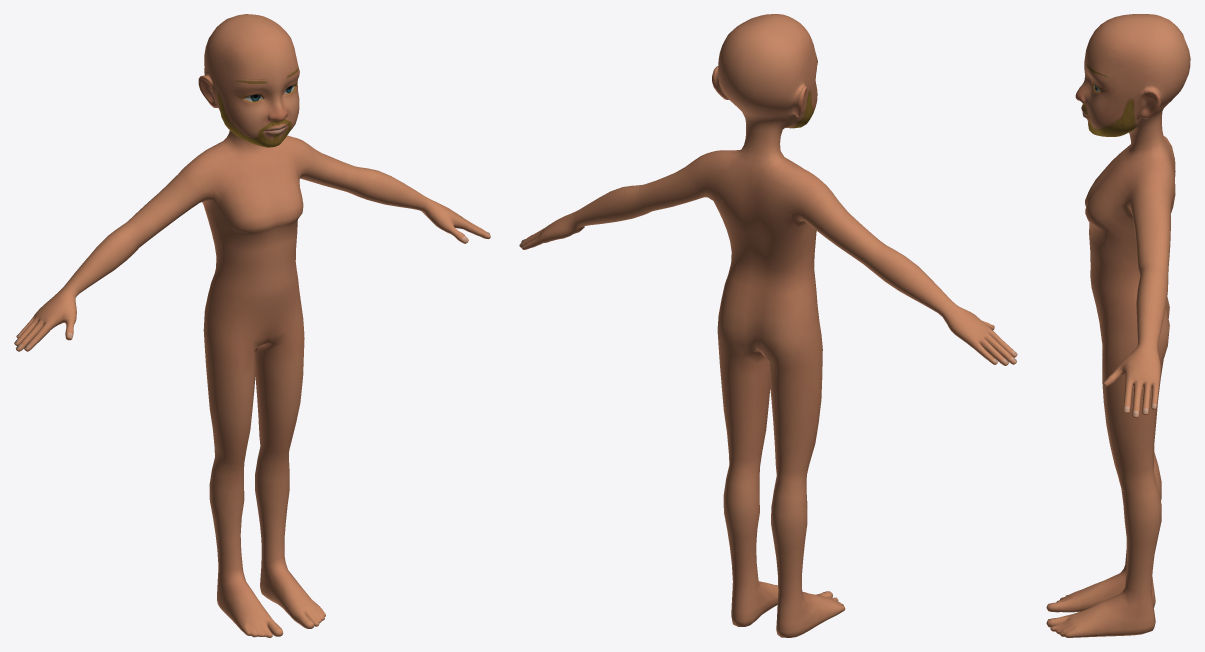
File: frame_0043.glb
3 views of the same model, side by side, from view 1: azimuth 30°, elevation 25°; view 2: azimuth 150°, elevation 25°; view 3: azimuth 270°, elevation 25° (orthographic). The views are drawn at different scales.
Parts seen in each view (by area): view 1: frame_0043_head_geo; view 2: frame_0043_head_geo; view 3: frame_0043_head_geo.
Boxes of the visible parts, <box> form: frame_0043_head_geo: <box>14,14,490,637</box>; frame_0043_head_geo: <box>519,14,1017,637</box>; frame_0043_head_geo: <box>1046,14,1190,637</box>.
Bounding box in the file's own units: 1.28 × 1.5 × 0.3253.
Materials: 3 (3 with a texture image).
